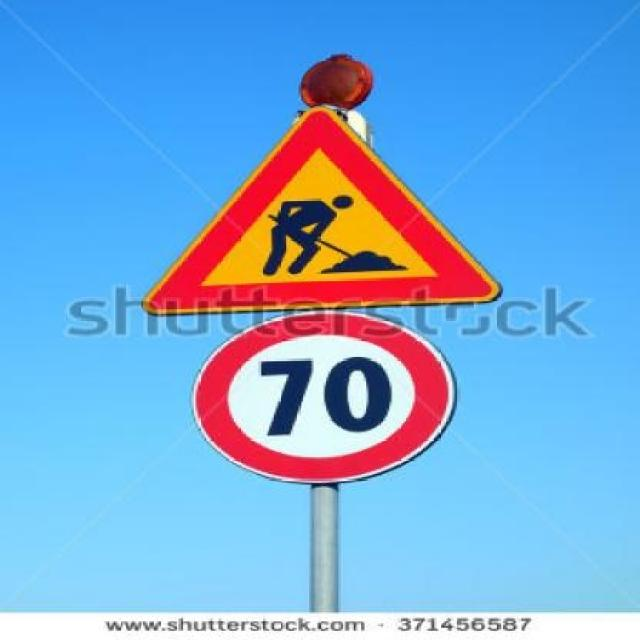forb_speed_over_70: (193, 316, 453, 478)
